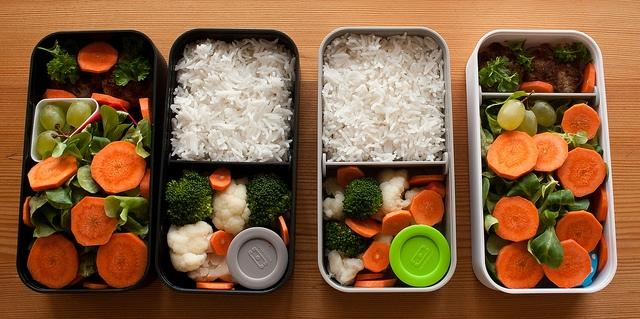broccoli: (164, 171, 216, 228), (245, 174, 291, 227), (324, 220, 374, 259), (342, 177, 383, 222), (553, 41, 591, 69)
carrot: (90, 140, 146, 194), (96, 232, 148, 288), (27, 234, 78, 288), (486, 130, 538, 180), (556, 147, 607, 197), (494, 240, 544, 290), (542, 239, 592, 288), (71, 196, 119, 246), (492, 196, 539, 242), (554, 211, 602, 254), (28, 154, 78, 192), (561, 103, 601, 140), (532, 132, 568, 172), (78, 42, 119, 74), (410, 189, 444, 226), (362, 242, 390, 272), (90, 93, 132, 112), (382, 210, 412, 236), (346, 216, 382, 237), (337, 166, 365, 188), (592, 183, 608, 221), (210, 230, 233, 256), (578, 63, 596, 94), (209, 168, 231, 191), (408, 174, 446, 186), (139, 98, 152, 132), (596, 232, 607, 272), (518, 81, 554, 93), (354, 278, 397, 288), (23, 196, 36, 228), (278, 215, 290, 248), (43, 88, 77, 99), (140, 168, 150, 203), (425, 182, 446, 198), (196, 282, 234, 289), (64, 275, 86, 287), (81, 281, 113, 289), (356, 274, 384, 280)
cauliflower: (209, 178, 251, 239), (186, 252, 238, 286), (167, 221, 213, 255), (379, 176, 412, 216), (328, 249, 364, 282), (169, 248, 207, 273), (323, 194, 347, 225), (405, 187, 426, 209)
grape: (497, 99, 526, 131), (528, 99, 557, 127), (67, 99, 92, 130), (40, 104, 66, 132), (36, 130, 61, 156), (518, 110, 538, 136)
